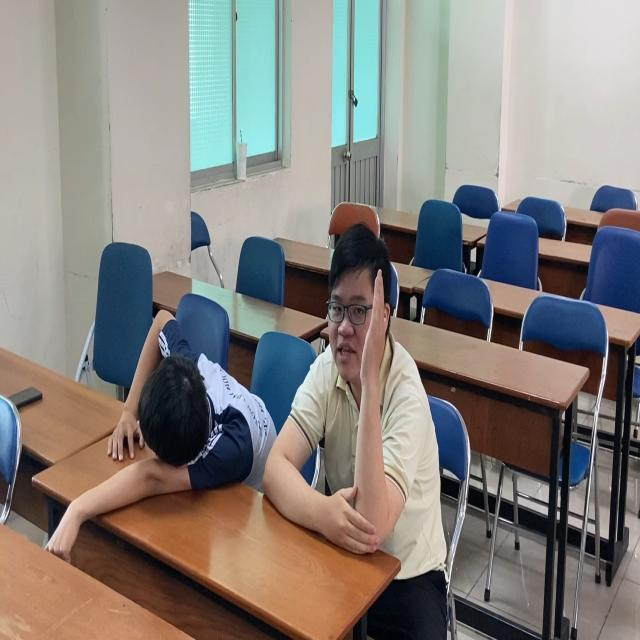raise_hand: (272, 223, 451, 589)
